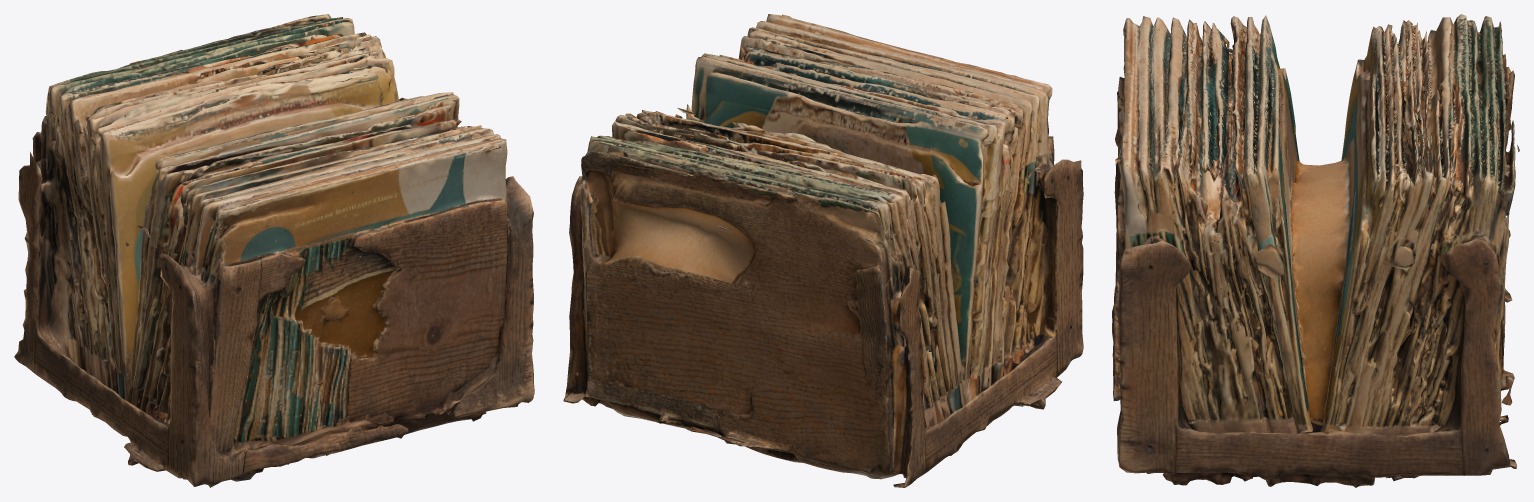
The model's file is RecordCrate.glb.
The picture shows the model from 3 angles, left to right: view 1: azimuth 30°, elevation 25°; view 2: azimuth 150°, elevation 25°; view 3: azimuth 270°, elevation 25°; orthographic projection. The views are drawn at different scales.
Parts seen in each view (by area): view 1: texture_mapping; view 2: texture_mapping; view 3: texture_mapping.
Part boxes in pixels (x1,y1,x2,y2): texture_mapping: [14, 14, 534, 487]; texture_mapping: [563, 14, 1083, 487]; texture_mapping: [1112, 14, 1519, 487].
Size of the model in its own units: 0.9284 by 0.7294 by 0.8422.
Materials: 1 (1 with a texture image).
